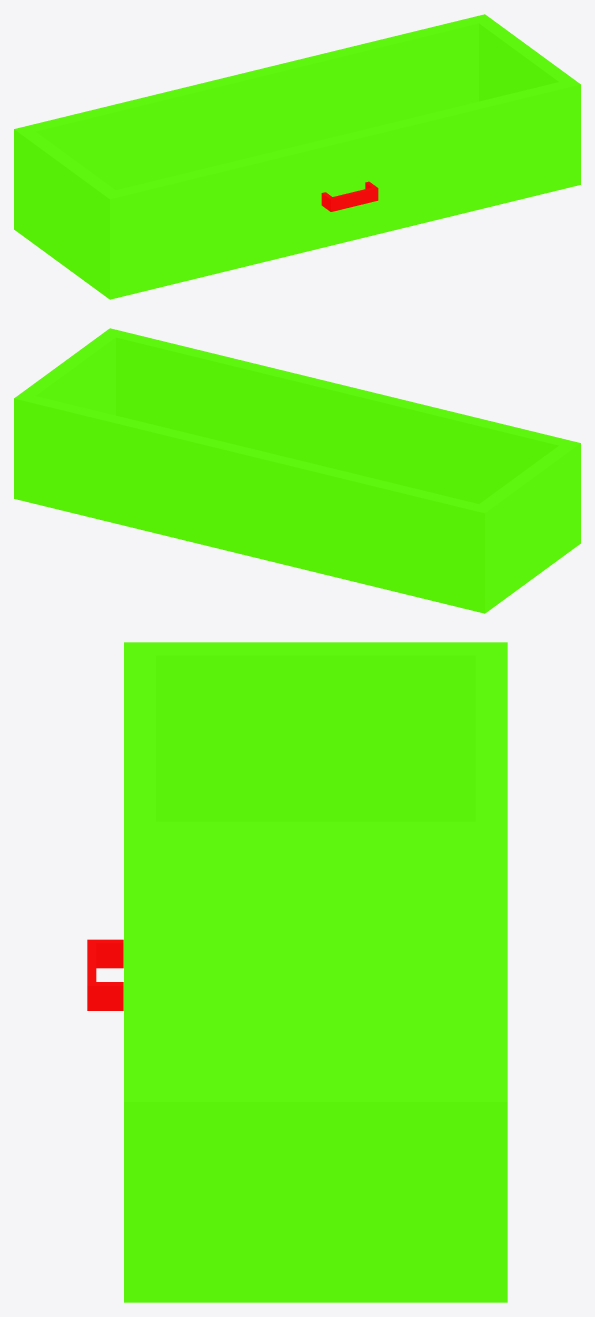
The model's file is Drawer.fbx.
3 renders of one model, top to bottom at view 1: azimuth 30°, elevation 25°; view 2: azimuth 150°, elevation 25°; view 3: azimuth 270°, elevation 25°, orthographic. The views are drawn at different scales.
Visible parts, largest first — view 1: Drawer; view 2: Drawer; view 3: Drawer.
Part boxes in pixels (x1=…): Drawer: x1=14, y1=14, x2=580, y2=299; Drawer: x1=14, y1=328, x2=580, y2=613; Drawer: x1=87, y1=642, x2=507, y2=1302.
Bounding box in the file's own units: 119 × 24.22 × 46.01.
